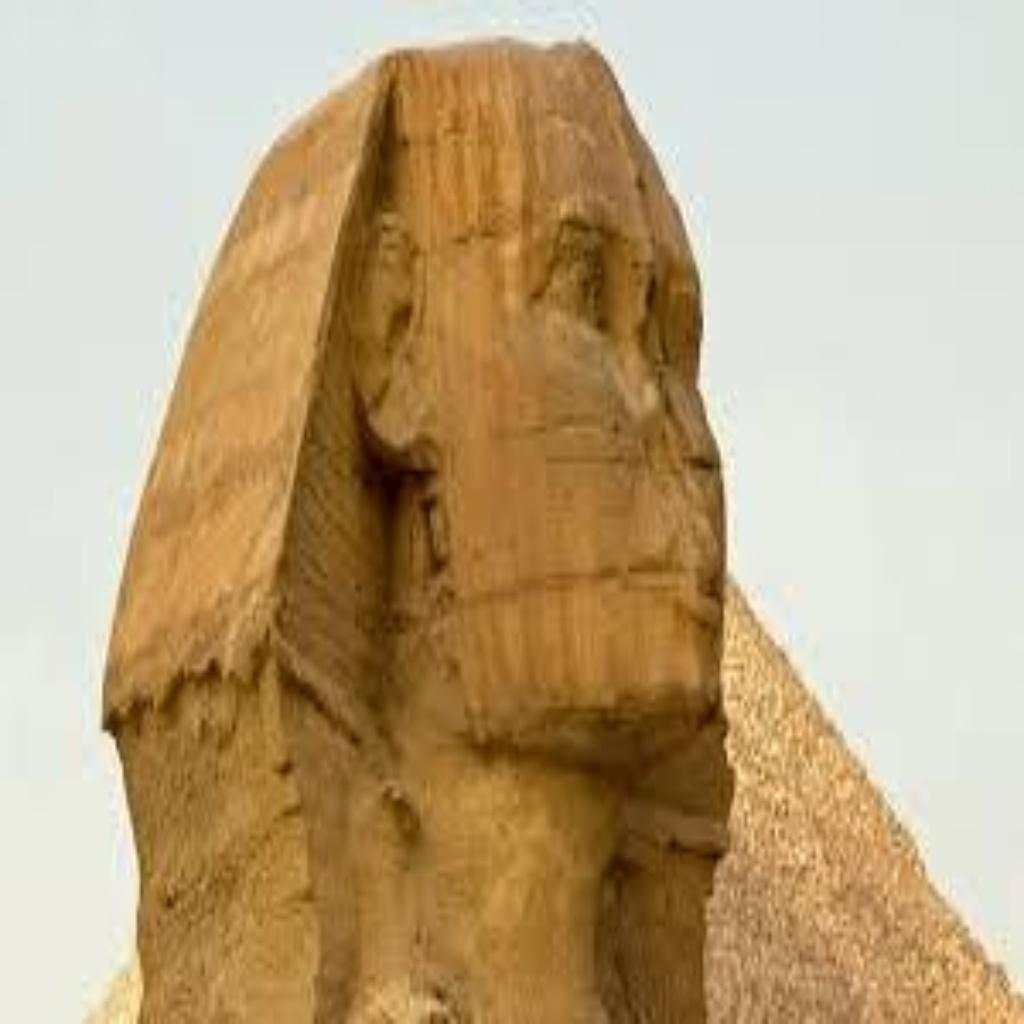Sphinx: (88, 30, 738, 1018)
